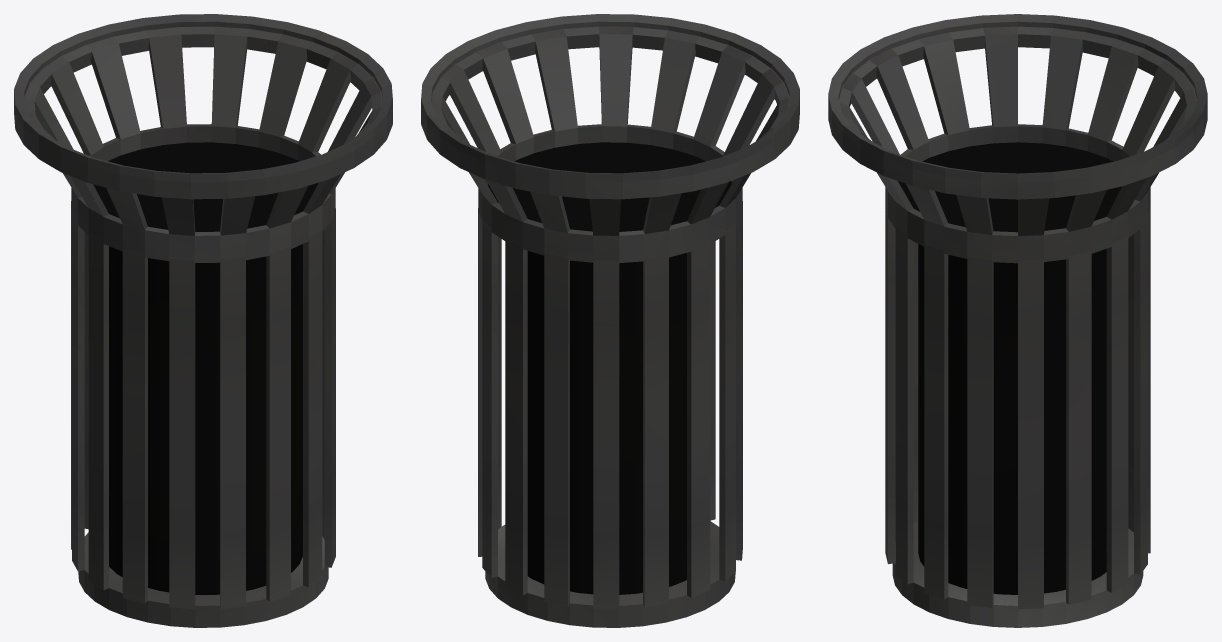
The model's file is çöp kutusu.fbx.
The picture shows the model from 3 angles, left to right: view 1: azimuth 30°, elevation 25°; view 2: azimuth 150°, elevation 25°; view 3: azimuth 270°, elevation 25°; orthographic projection.
Visible parts, largest first — view 1: Circle; view 2: Circle; view 3: Circle.
Part boxes in pixels (x1=…): Circle: x1=14, y1=14, x2=392, y2=627; Circle: x1=421, y1=14, x2=799, y2=627; Circle: x1=828, y1=14, x2=1207, y2=627.
Bounding box in the file's own units: 150 × 210 × 150.
Materials: 1 (1 with a texture image).
